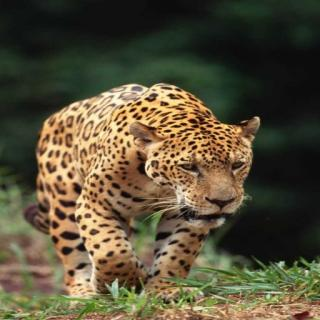Leopard: (35, 51, 280, 288)
